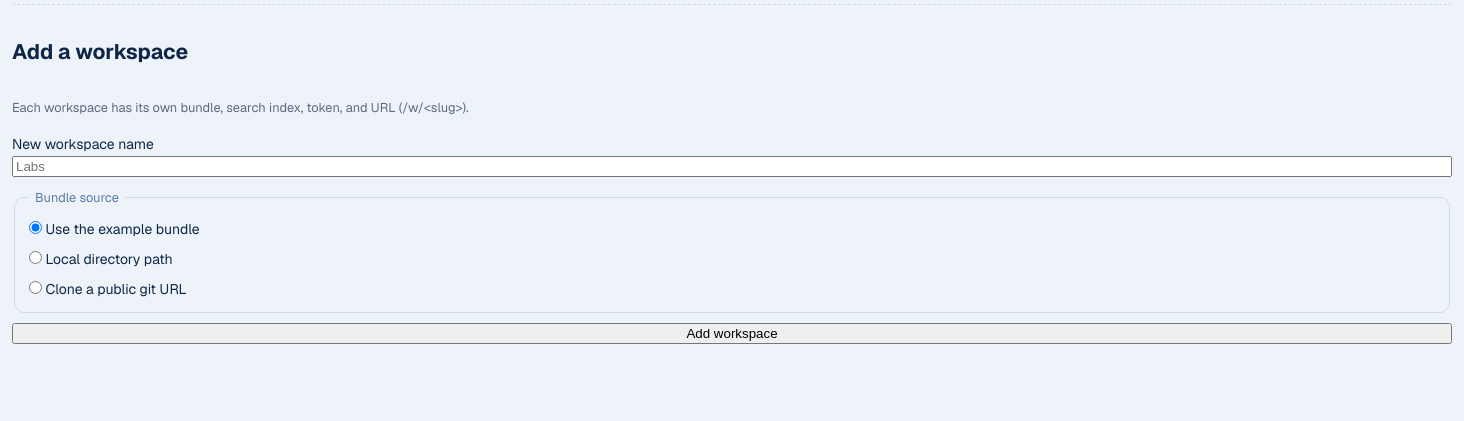
Scenario: AddWorkspacePanel › shows the error when creation fails
The width and height of the screenshot is (1464, 421).
Click the button "Add workspace". click: (732, 334)
box: [12,324,1452,344]
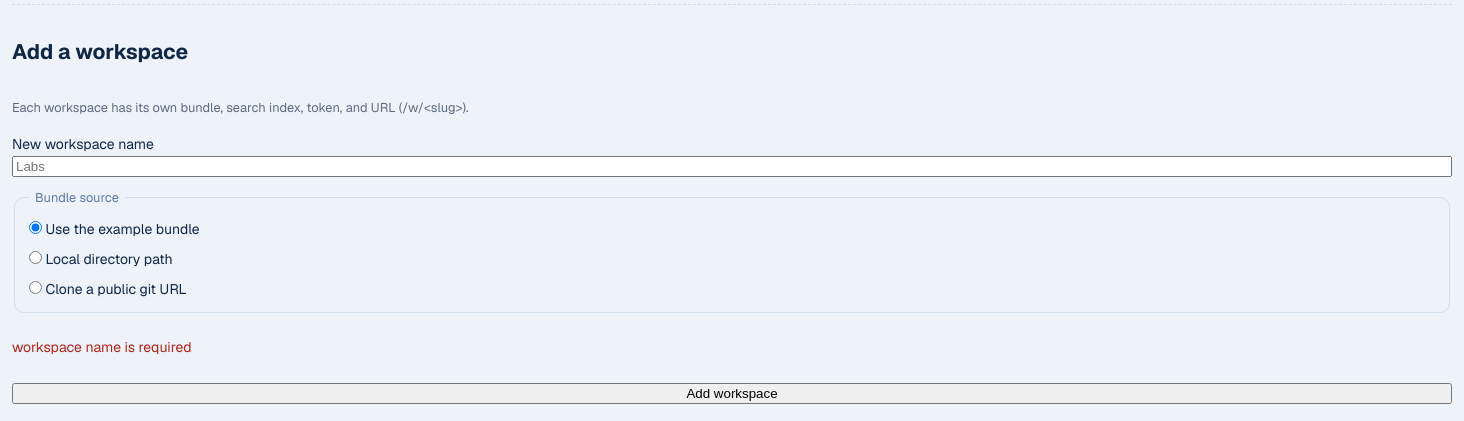
Expected: the text "workspace name is required" is shown, [12,338,192,356]
